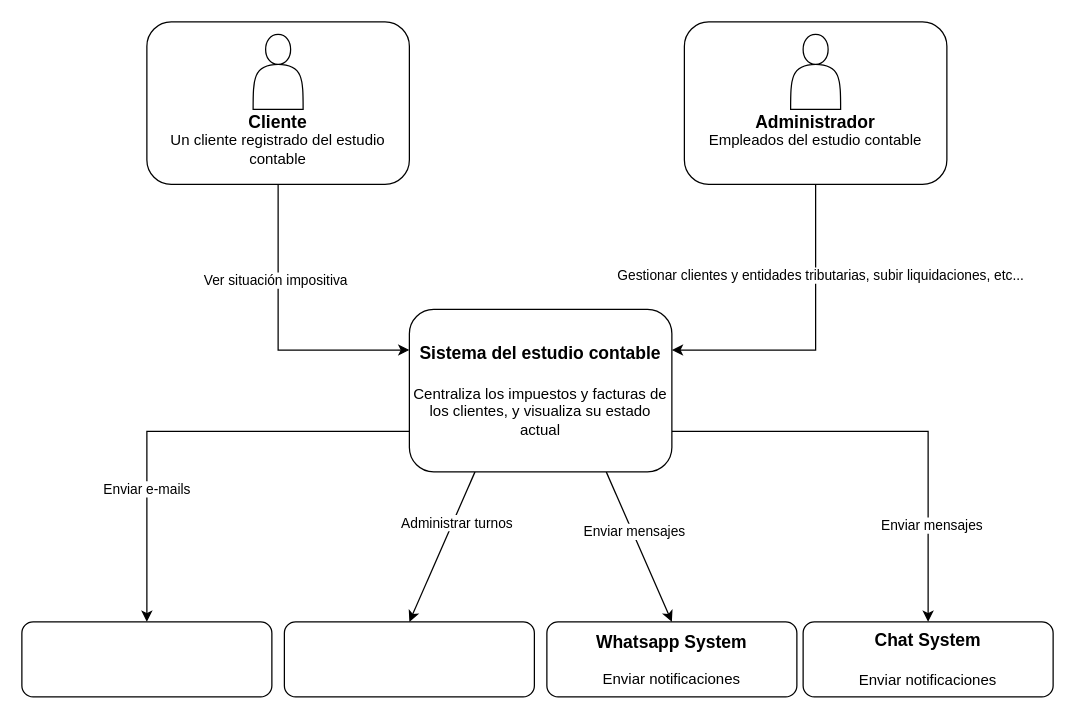
This 1075x719 diagram has some shape labels left out. Here are the shapes that lost their labels. From the top down, the centre of each, then its label:
At point 146,659: "E-mail System Enviar notificaciones".
At point 408,659: "Google Calendar System Manejar turnos".
